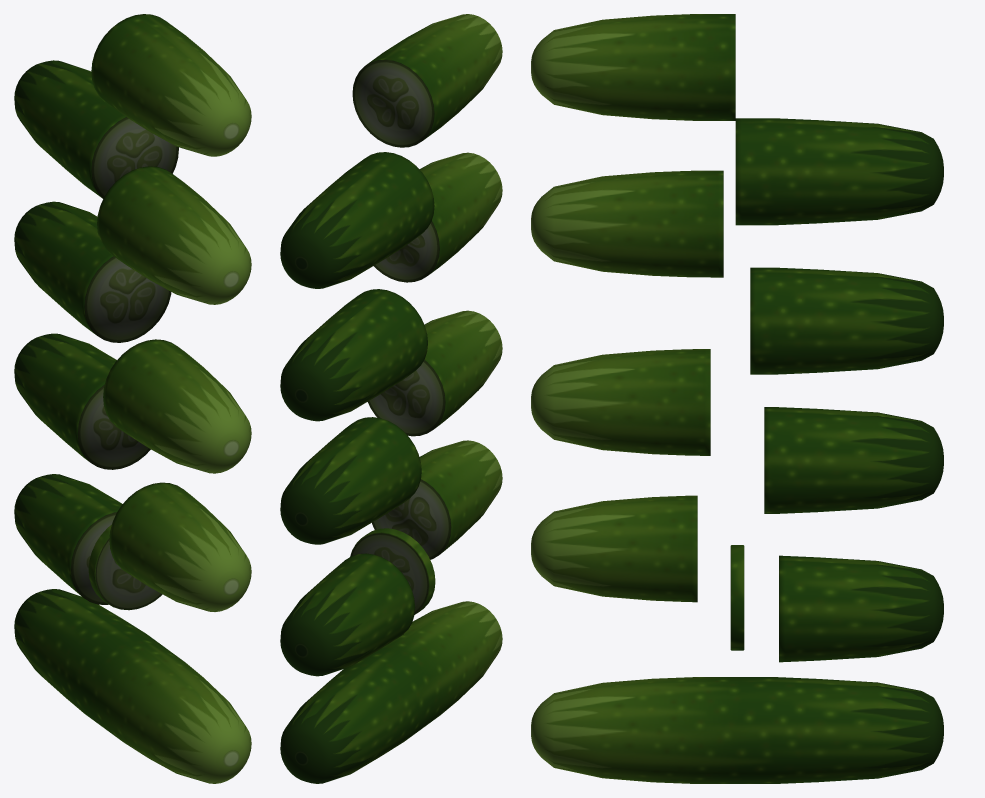
Rendered from Full_Cucumber.fbx.
3 renders of one model, left to right at view 1: azimuth 30°, elevation 25°; view 2: azimuth 150°, elevation 25°; view 3: azimuth 270°, elevation 25°, orthographic. The views are drawn at different scales.
Visible parts, largest first — view 1: Cylinder.061, Cylinder.064, Cylinder.066, Cylinder.068, Cylinder.069, Cylinder.070, Cylinder.063, Cylinder.072, Cylinder.074, Cylinder.067; view 2: Cylinder.061, Cylinder.063, Cylinder.064, Cylinder.070, Cylinder.072, Cylinder.074, Cylinder.068, Cylinder.069, Cylinder.066, Cylinder.067; view 3: Cylinder.061, Cylinder.063, Cylinder.064, Cylinder.070, Cylinder.066, Cylinder.072, Cylinder.068, Cylinder.074, Cylinder.069, Cylinder.067.
Boxes of the visible parts, x1=… form: Cylinder.061: x1=14, y1=589, x2=251, y2=783; Cylinder.064: x1=91, y1=14, x2=251, y2=156; Cylinder.066: x1=97, y1=166, x2=251, y2=304; Cylinder.068: x1=103, y1=339, x2=251, y2=473; Cylinder.069: x1=109, y1=482, x2=251, y2=611; Cylinder.070: x1=14, y1=201, x2=171, y2=342; Cylinder.063: x1=14, y1=60, x2=178, y2=198; Cylinder.072: x1=14, y1=333, x2=150, y2=469; Cylinder.074: x1=14, y1=474, x2=122, y2=604; Cylinder.067: x1=88, y1=524, x2=162, y2=610; Cylinder.061: x1=280, y1=601, x2=502, y2=783; Cylinder.063: x1=280, y1=152, x2=434, y2=288; Cylinder.064: x1=352, y1=14, x2=502, y2=147; Cylinder.070: x1=280, y1=289, x2=427, y2=421; Cylinder.072: x1=280, y1=417, x2=421, y2=544; Cylinder.074: x1=280, y1=553, x2=415, y2=676; Cylinder.068: x1=368, y1=310, x2=502, y2=436; Cylinder.069: x1=372, y1=440, x2=502, y2=559; Cylinder.066: x1=374, y1=152, x2=502, y2=282; Cylinder.067: x1=350, y1=528, x2=435, y2=614; Cylinder.061: x1=531, y1=677, x2=943, y2=783; Cylinder.063: x1=735, y1=118, x2=943, y2=225; Cylinder.064: x1=531, y1=14, x2=735, y2=120; Cylinder.070: x1=750, y1=267, x2=943, y2=374; Cylinder.066: x1=531, y1=170, x2=723, y2=277; Cylinder.072: x1=764, y1=407, x2=943, y2=513; Cylinder.068: x1=531, y1=349, x2=710, y2=455; Cylinder.074: x1=779, y1=555, x2=943, y2=662; Cylinder.069: x1=531, y1=495, x2=697, y2=602; Cylinder.067: x1=730, y1=545, x2=744, y2=650.
Size of the model in its own units: 20.76 by 163 by 85.29.
Materials: 1 (1 with a texture image).
